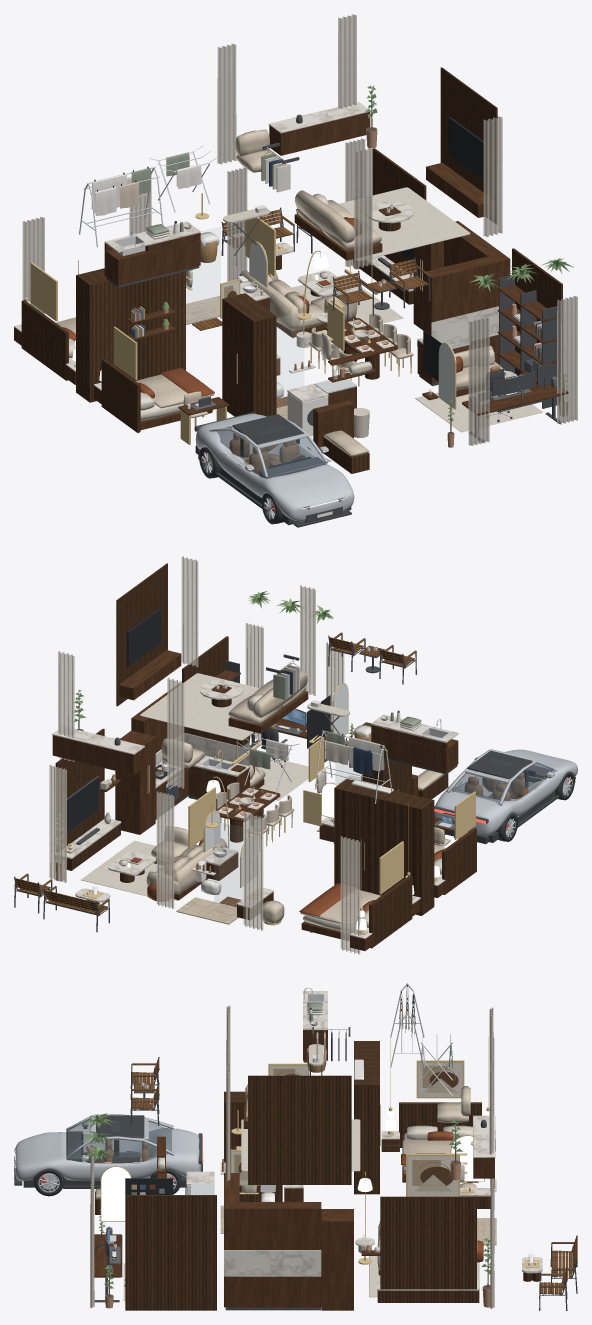
Rendered from furniture-warm-luxury.glb.
3 views of the same model, one above another, from view 1: azimuth 30°, elevation 25°; view 2: azimuth 150°, elevation 25°; view 3: azimuth 270°, elevation 25° (orthographic). The views are drawn at different scales.
Visible parts, largest first — view 1: WarmLuxury_F-MB-WARD_Carcass, WarmLuxury_F-B2-WARD_Carcass, WarmLuxury_F-CP-CAR_Body, WarmLuxury_L2_Lounge_MediaSlat, WarmLuxury_F-KT-S_UpperCab, WarmLuxury_L2_Lounge_Rug, WarmLuxury_Curtain_Studio_W, WarmLuxury_L2_Jemuran_CabLow, WarmLuxury_F-CP-CAR_Glasshouse, WarmLuxury_Curtain_Studio_E, WarmLuxury_F-MB-BED_Headboard, WarmLuxury_L2_Curtain_Balc_E (+45 smaller); view 2: WarmLuxury_F-MB-WARD_Carcass, WarmLuxury_F-CP-CAR_Body, WarmLuxury_L2_Lounge_Rug, WarmLuxury_L2_Lounge_MediaSlat, WarmLuxury_F-KT-FRIDGE_Body, WarmLuxury_Curtain_Master_E, WarmLuxury_Curtain_Master_W, WarmLuxury_F-ME-SHW_GlassPanel, WarmLuxury_Curtain_Living_W, WarmLuxury_F-LV-TV_FeaturePanel, WarmLuxury_Curtain_Living_E, WarmLuxury_L2_Jemuran_CabLow (+46 smaller); view 3: WarmLuxury_L2_Lounge_MediaSlat, WarmLuxury_F-ST-SHELF_AcousticSlatPanel, WarmLuxury_F-LV-TV_FeaturePanel, WarmLuxury_F-CP-CAR_Body, WarmLuxury_F-KT-E_UpperCab, WarmLuxury_F-KT-FRIDGE_Body, WarmLuxury_F-MB-WARD_Carcass, WarmLuxury_F-KT-E_BaseCab, WarmLuxury_F-KT-E_Backsplash, WarmLuxury_F-CP-CAR_Glasshouse, WarmLuxury_ArtLiving_Canvas, WarmLuxury_F-MB-BED_Headboard (+22 smaller).
Part boxes in pixels (box(x1,y1,x2,y2)): WarmLuxury_F-MB-WARD_Carcass: box(76, 268, 185, 402); WarmLuxury_F-B2-WARD_Carcass: box(222, 293, 276, 416); WarmLuxury_F-CP-CAR_Body: box(195, 414, 354, 521); WarmLuxury_L2_Lounge_MediaSlat: box(440, 67, 497, 223); WarmLuxury_F-KT-S_UpperCab: box(423, 253, 510, 322); WarmLuxury_L2_Lounge_Rug: box(339, 187, 470, 260); WarmLuxury_Curtain_Studio_W: box(468, 317, 489, 445); WarmLuxury_L2_Jemuran_CabLow: box(104, 239, 200, 285); WarmLuxury_F-CP-CAR_Glasshouse: box(217, 426, 331, 477); WarmLuxury_Curtain_Studio_E: box(557, 295, 577, 424); WarmLuxury_F-MB-BED_Headboard: box(21, 300, 68, 380); WarmLuxury_L2_Curtain_Balc_E: box(483, 116, 502, 236); WarmLuxury_F-MB-WARD_Carcass: box(334, 779, 434, 915); WarmLuxury_F-CP-CAR_Body: box(434, 749, 577, 835); WarmLuxury_L2_Lounge_Rug: box(140, 673, 259, 740); WarmLuxury_L2_Lounge_MediaSlat: box(116, 563, 167, 706); WarmLuxury_F-KT-FRIDGE_Body: box(115, 730, 155, 834); WarmLuxury_Curtain_Master_E: box(243, 812, 263, 930); WarmLuxury_Curtain_Master_W: box(340, 836, 360, 954); WarmLuxury_F-ME-SHW_GlassPanel: box(214, 821, 243, 906); WarmLuxury_Curtain_Living_W: box(156, 791, 174, 908); WarmLuxury_F-LV-TV_FeaturePanel: box(55, 728, 104, 852); WarmLuxury_Curtain_Living_E: box(49, 765, 66, 882); WarmLuxury_L2_Jemuran_CabLow: box(371, 731, 458, 772); WarmLuxury_L2_Lounge_MediaSlat: box(248, 1075, 351, 1184); WarmLuxury_F-ST-SHELF_AcousticSlatPanel: box(125, 1195, 216, 1310); WarmLuxury_F-LV-TV_FeaturePanel: box(380, 1196, 476, 1289); WarmLuxury_F-CP-CAR_Body: box(14, 1128, 201, 1181); WarmLuxury_F-KT-E_UpperCab: box(239, 1202, 321, 1249); WarmLuxury_F-KT-FRIDGE_Body: box(321, 1209, 353, 1310); WarmLuxury_F-MB-WARD_Carcass: box(354, 1041, 379, 1194); WarmLuxury_F-KT-E_BaseCab: box(224, 1276, 321, 1307); WarmLuxury_F-KT-E_Backsplash: box(225, 1250, 321, 1275); WarmLuxury_F-CP-CAR_Glasshouse: box(66, 1118, 171, 1160); WarmLuxury_ArtLiving_Canvas: box(407, 1156, 458, 1196); WarmLuxury_F-MB-BED_Headboard: box(399, 1102, 481, 1147).
Size of the model in its own units: 8.74 by 6.12 by 13.03.
Materials: 51 (18 with a texture image).
